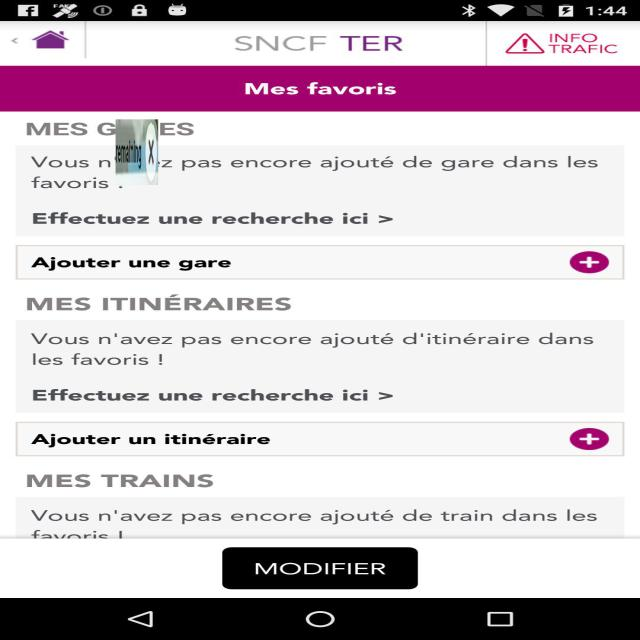misdirection: (116, 119, 158, 185)
